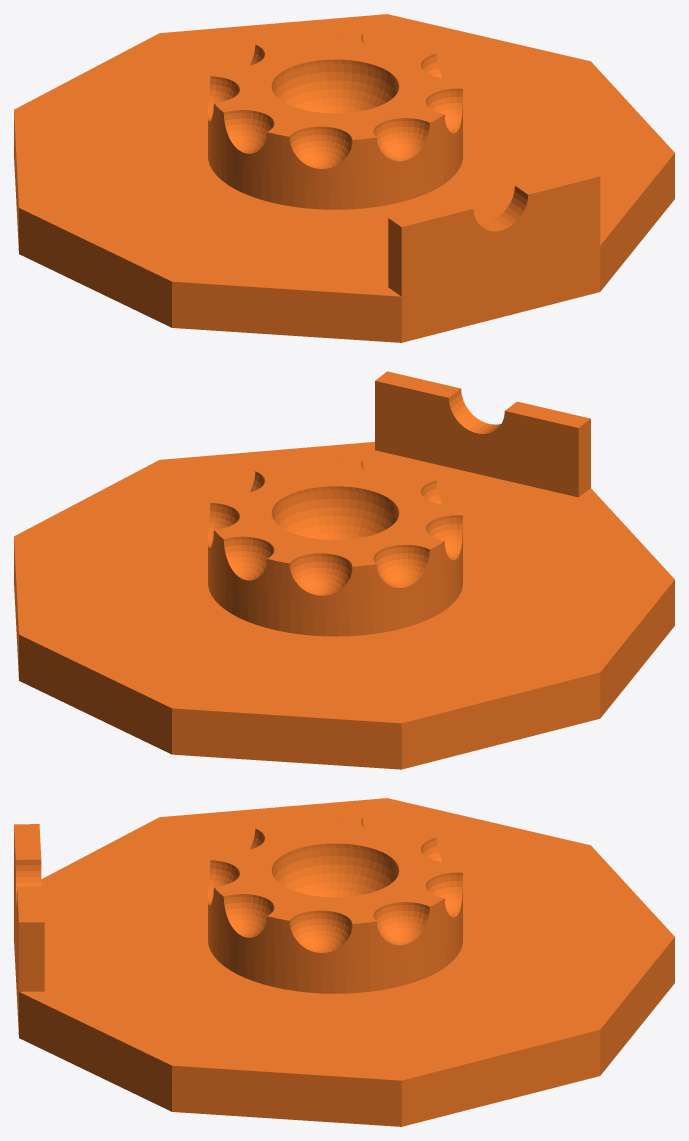
Rendered from col_base.glb.
3 renders of one model, top to bottom at view 1: azimuth 30°, elevation 25°; view 2: azimuth 150°, elevation 25°; view 3: azimuth 270°, elevation 25°, orthographic.
Visible parts, largest first — view 1: node_id5; view 2: node_id5; view 3: node_id5.
Boxes of the visible parts, x1=… form: node_id5: x1=14, y1=14, x2=674, y2=342; node_id5: x1=14, y1=371, x2=674, y2=769; node_id5: x1=14, y1=798, x2=674, y2=1126.
Size of the model in its own units: 0.4442 by 0.0848 by 0.4391.
1 material, 1 textured.
